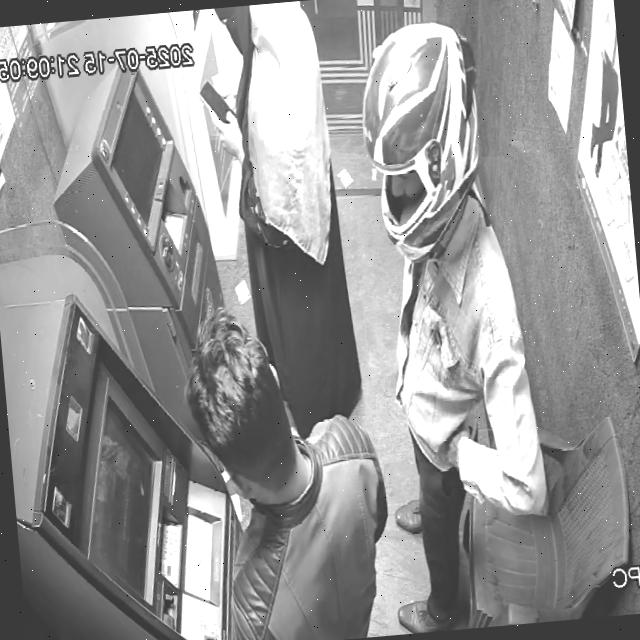helmet: (361, 23, 479, 263)
no_helmet: (183, 308, 314, 507)
